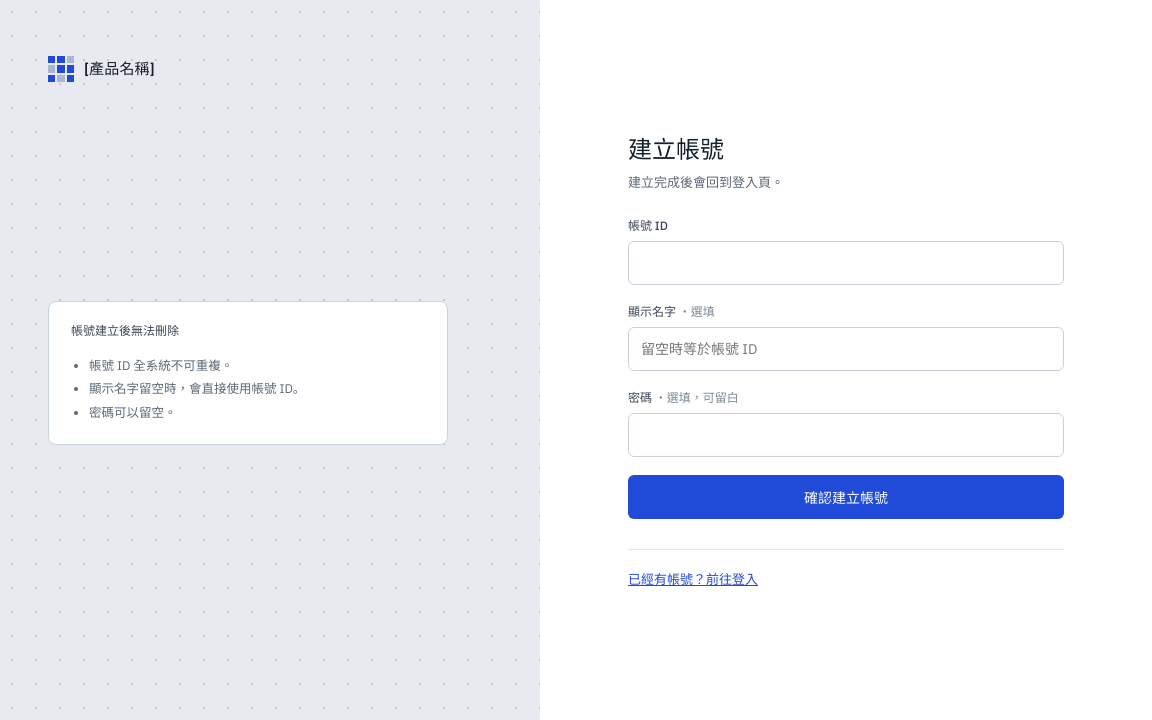
s-signup › 帳號 ID 為空時確認建立帳號，輸入內容保留、顯示訊息，且不觸發 uc-create-user
Check: the heading "建立帳號" is shown, box [628,133,724,165]
Type "secret" into the password field labelled "密碼" at (846,434), box [628,412,1064,456]
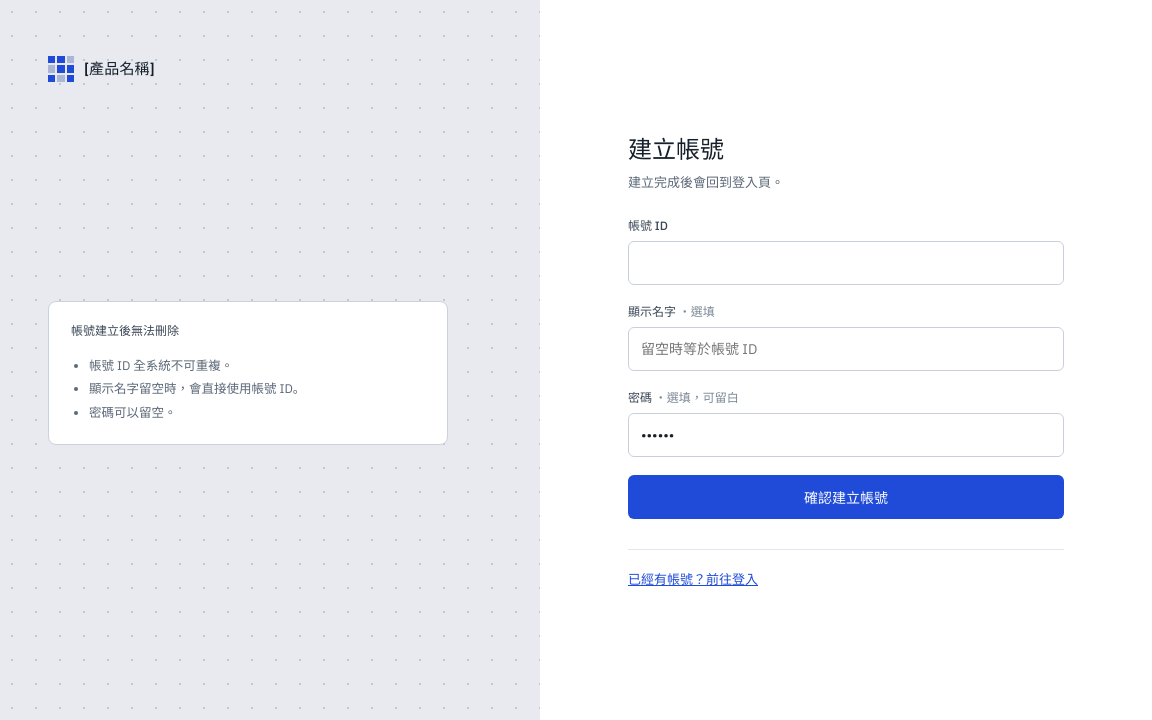
Click the button "確認建立帳號" at (846,496), box [628,474,1064,518]
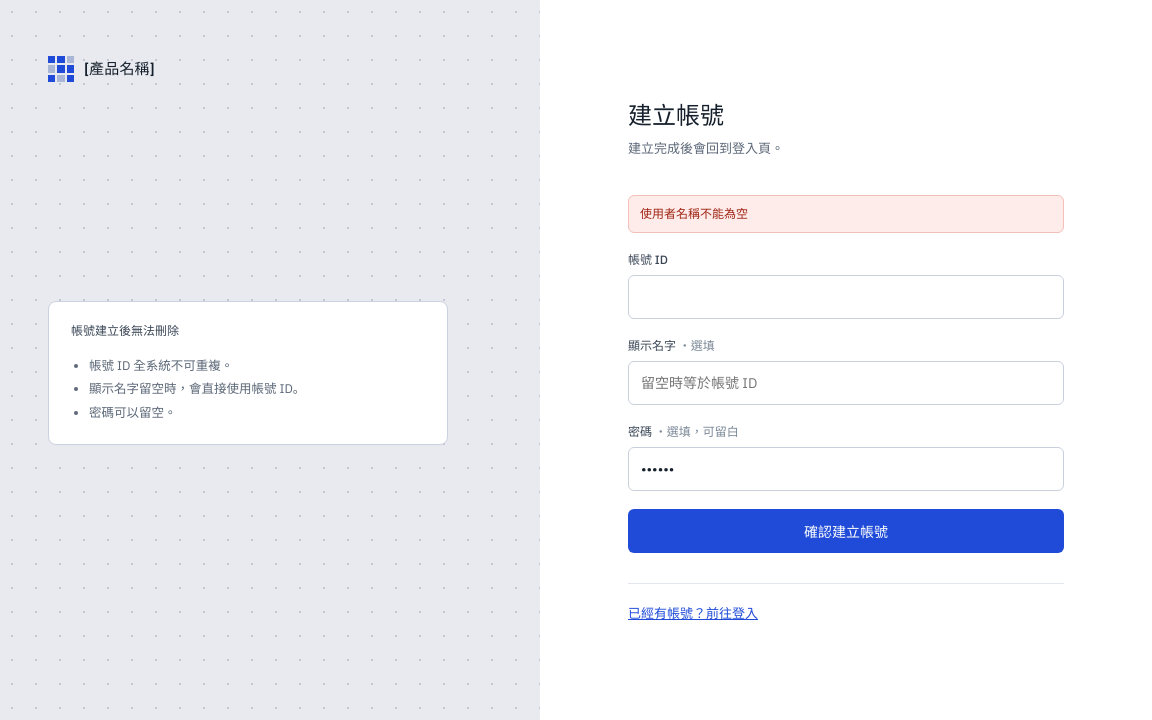
Check: the heading "建立帳號" is shown, box [628,99,724,131]
Check: the message reads "使用者名稱不能為空", box [640,206,748,220]
